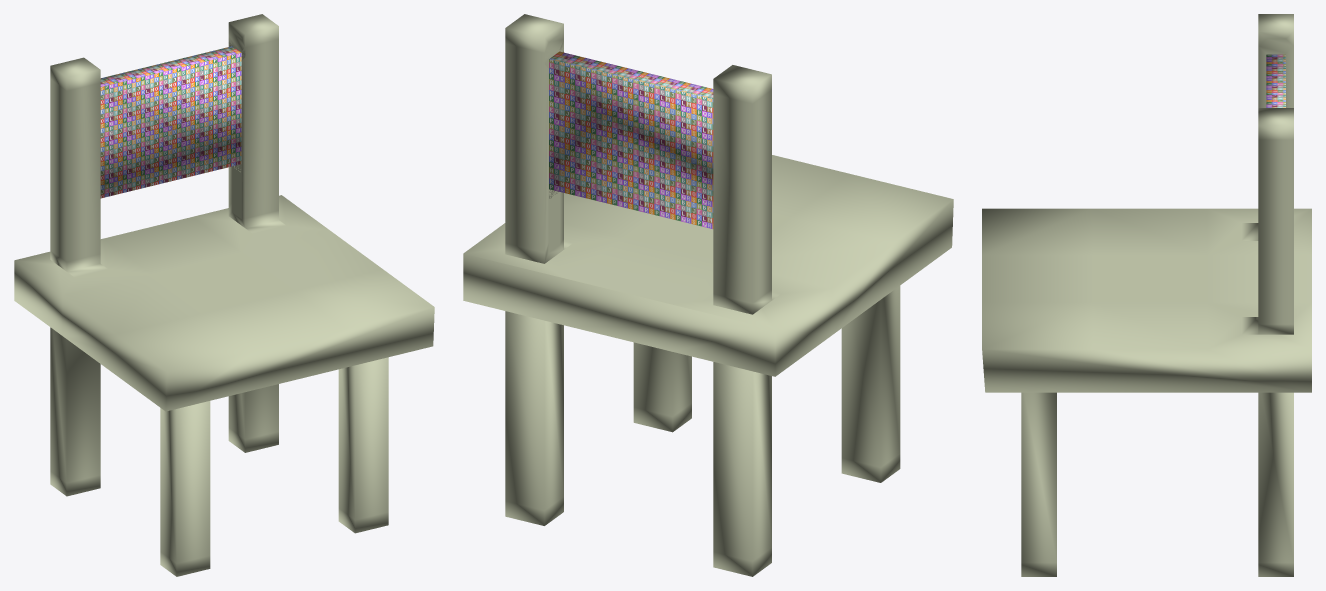
The model's file is chair.obj.
3 renders of one model, left to right at view 1: azimuth 30°, elevation 25°; view 2: azimuth 150°, elevation 25°; view 3: azimuth 270°, elevation 25°, orthographic. The views are drawn at different scales.
Parts seen in each view (by area): view 1: Cube1_default, Cube1_Cube1_auv; view 2: Cube1_default, Cube1_Cube1_auv; view 3: Cube1_default, Cube1_Cube1_auv.
Boxes of the visible parts, <box> form: Cube1_default: <box>14,14,434,576</box>; Cube1_Cube1_auv: <box>100,46,241,198</box>; Cube1_default: <box>463,14,953,576</box>; Cube1_Cube1_auv: <box>549,51,713,229</box>; Cube1_default: <box>982,14,1311,576</box>; Cube1_Cube1_auv: <box>1266,54,1285,107</box>.
Size of the model in its own units: 2 by 2.99 by 1.98.
Materials: 2 (1 with a texture image).
